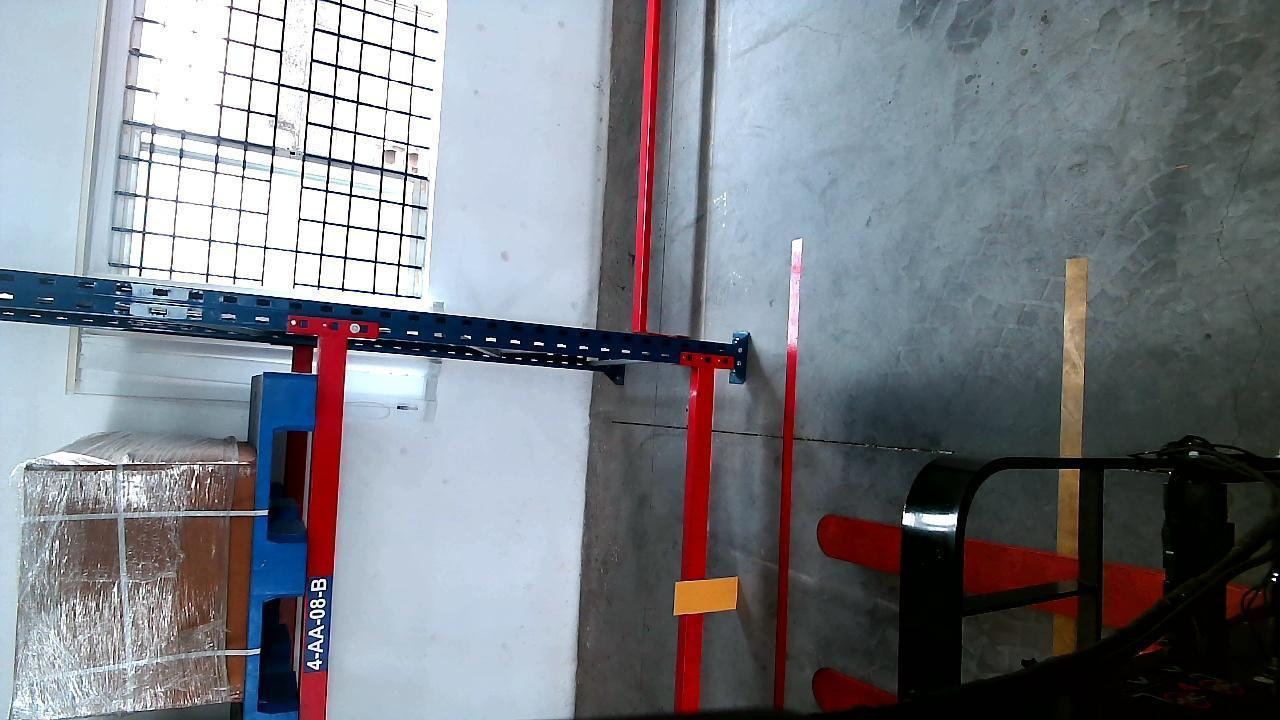h_rack: (302, 337, 349, 720), (680, 368, 714, 709)
orange_strip: (676, 578, 738, 613)
red_line: (775, 241, 805, 718)
small_pallet: (248, 365, 319, 720)
yellow_line: (1056, 250, 1088, 607)
